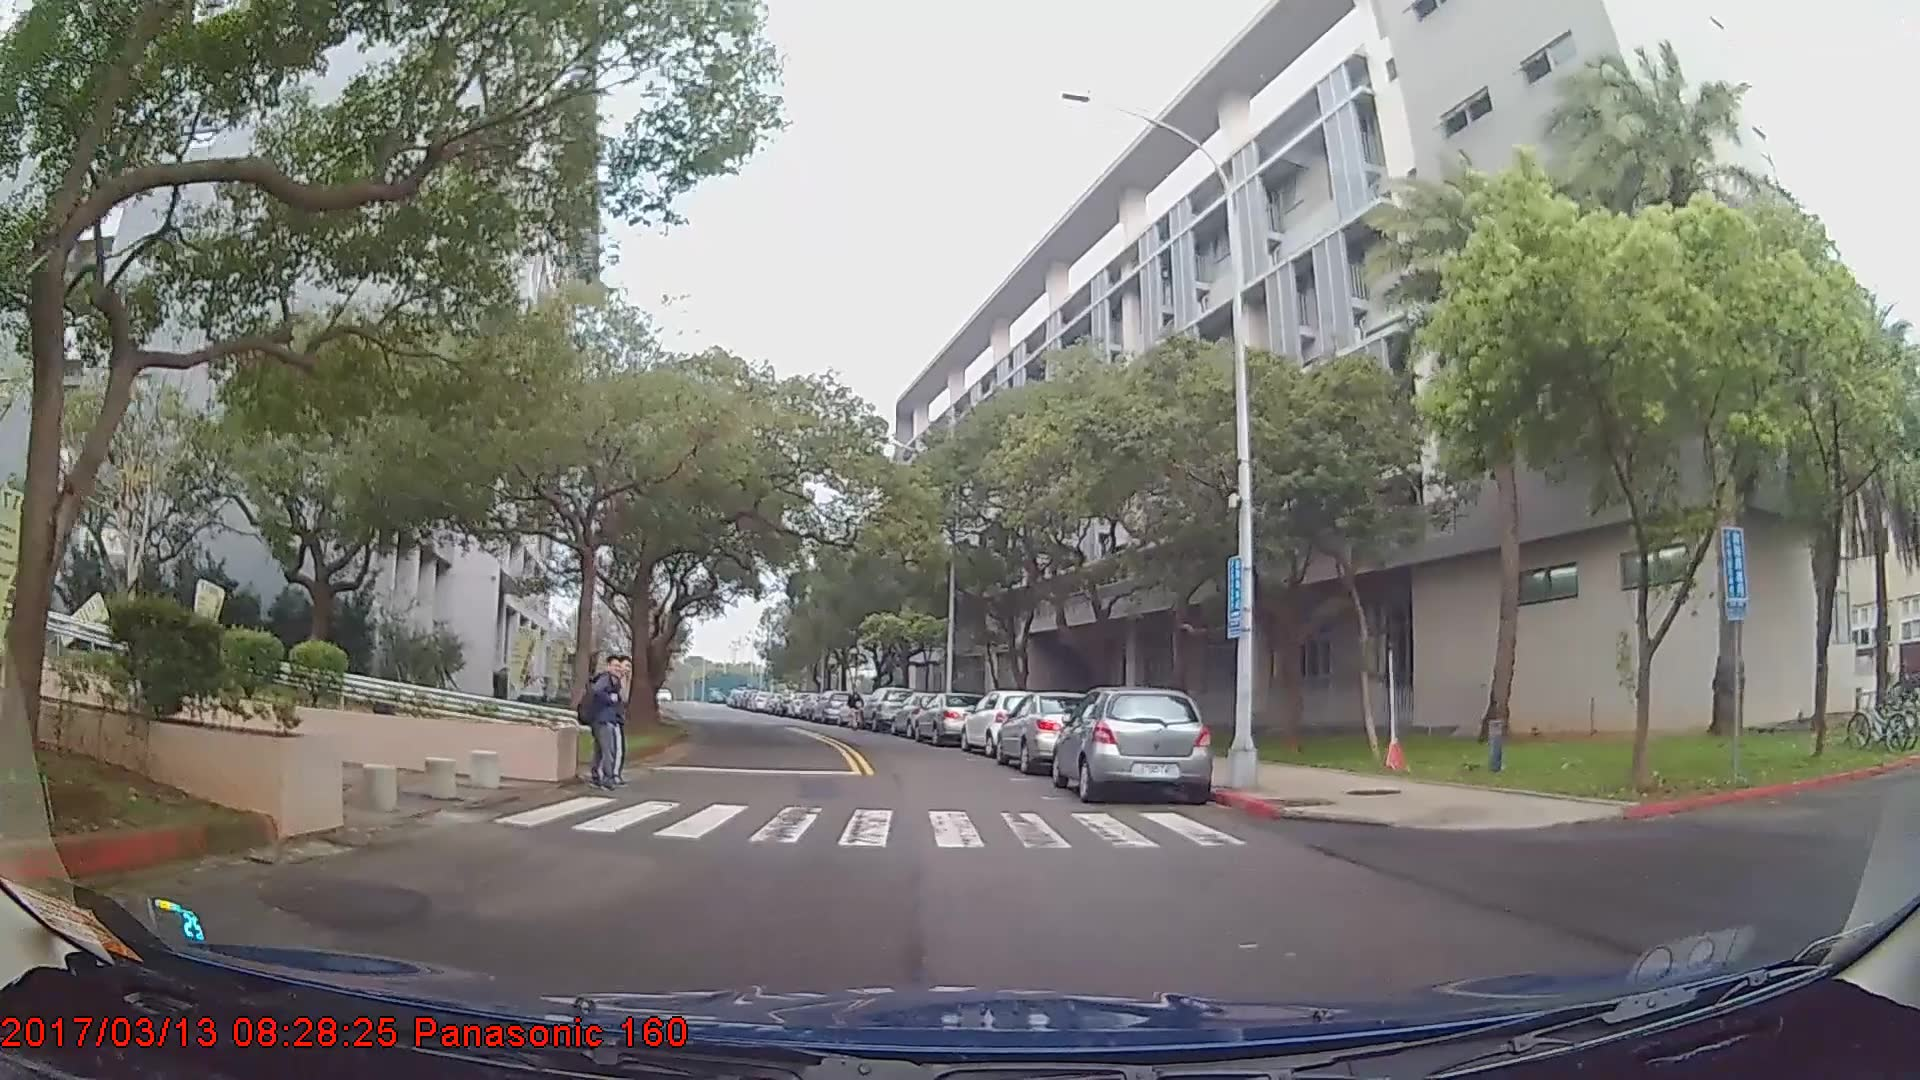pedestrian: (578, 654, 631, 793), (846, 684, 866, 733)
vehicle: (1052, 682, 1212, 800), (992, 690, 1100, 774), (959, 686, 1051, 756), (911, 689, 988, 745), (858, 684, 914, 730), (815, 690, 851, 724)
